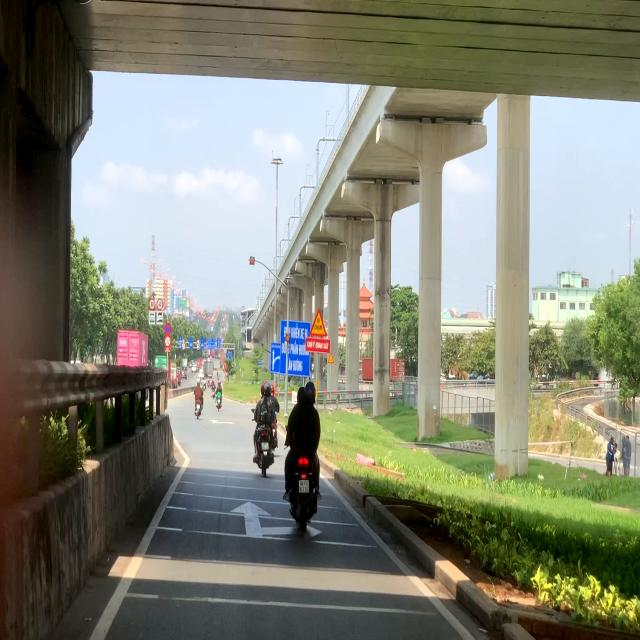P.127: (157, 298, 164, 310), (149, 298, 156, 310)
P.130: (165, 322, 171, 335)
W.245a: (309, 307, 328, 338)
